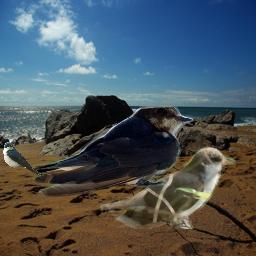Cuckoo: (100, 146, 236, 229)
Swallow: (30, 106, 193, 197), (3, 142, 43, 176)
